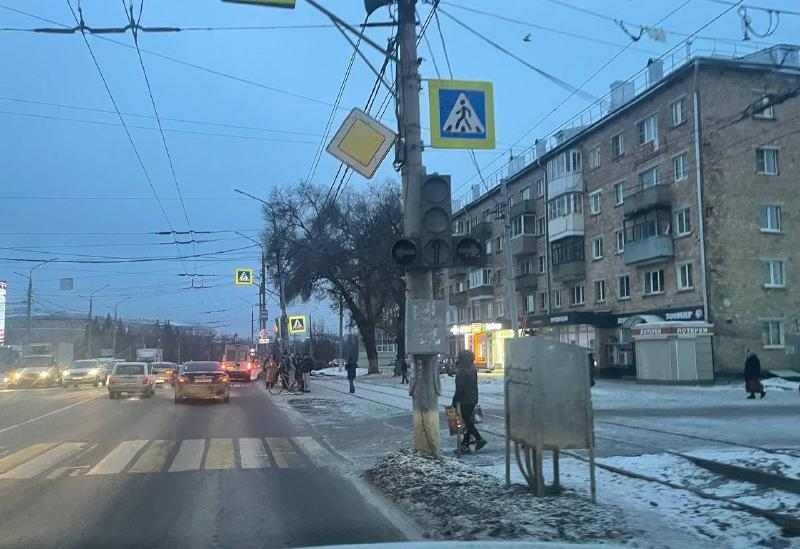off traffic light: (389, 172, 487, 267)
road_sign: (326, 108, 396, 178), (430, 79, 494, 148), (289, 316, 306, 333), (236, 269, 252, 285)
